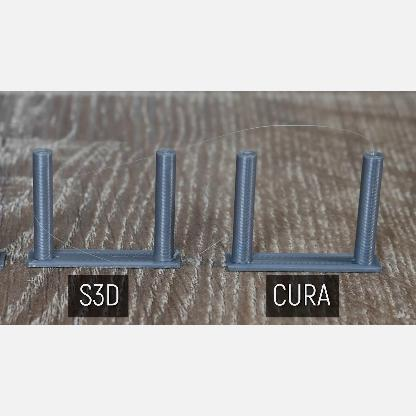fail: (254, 122, 342, 132), (53, 234, 77, 250)
